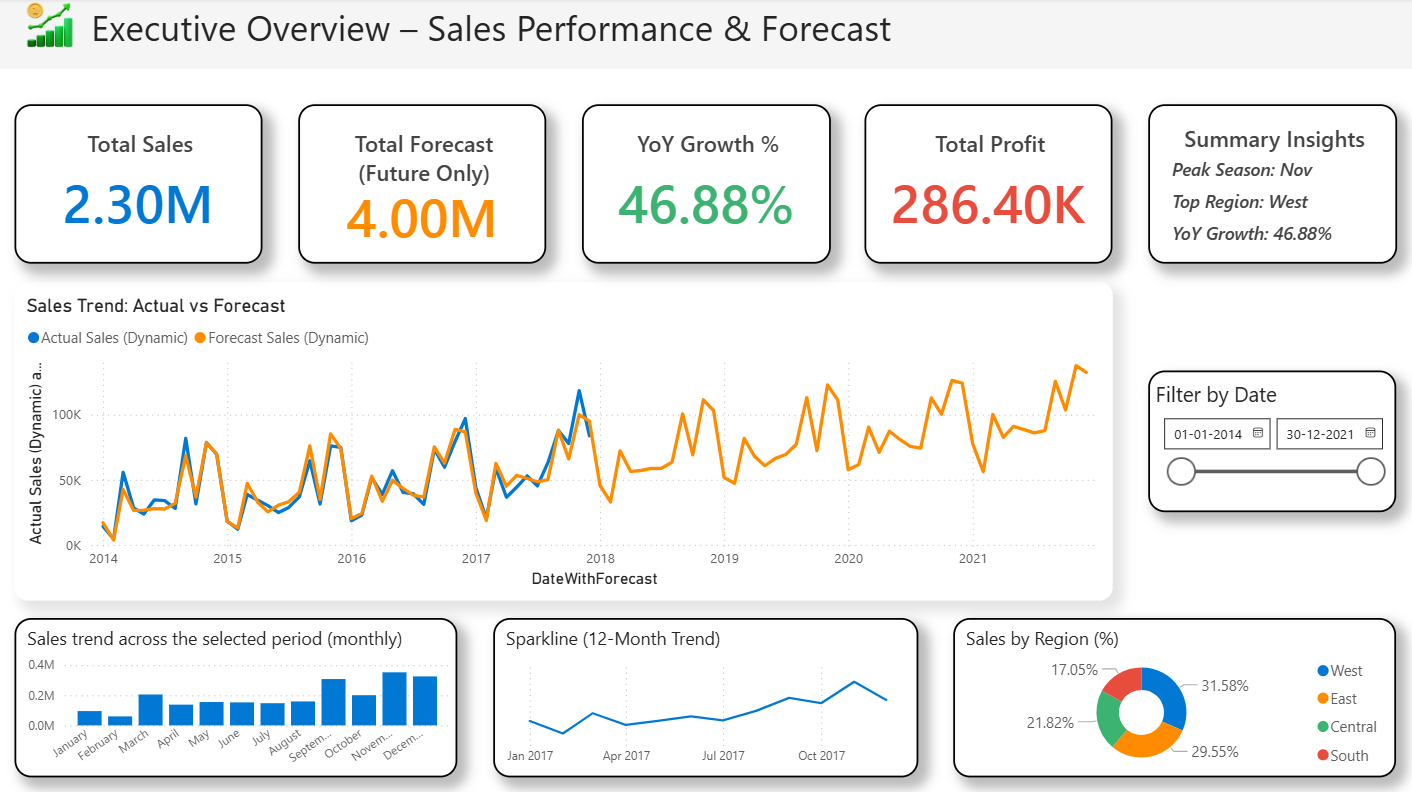

This screenshot's page, from the dashboard's own definition file:
{"tool":"powerbi","page":{"name":"Page 1","canvas":[1280,720],"ordinal":0},"visuals":[{"type":"shape","box":[0,0,1280,64],"z":0},{"type":"lineChart","title":"Sales Trend: Actual vs Forecast","fields":{"Y":["SalesForecastDynamic.Actual Sales (Dynamic)","SalesForecastDynamic.Forecast Sales (Dynamic)"],"Category":["DimDateWithForecast.Date.Variation.Date Hierarchy.Year"]},"box":[16,256,992,288],"z":1000},{"type":"textbox","box":[80,0,752,64],"z":2000},{"type":"card","title":"Total Sales","fields":{"Values":["SalesForecastDynamic.Total Sales (Actual Only)"]},"box":[16,96,224,144],"z":3000},{"type":"card","title":"Total Forecast (Future Only)","fields":{"Values":["SalesForecastDynamic.Total Forecast (Future Only)"]},"box":[272,96,224,144],"z":4000},{"type":"card","title":"YoY Growth %","fields":{"Values":["SalesForecastDynamic.YoY Growth % (Period-aware)"]},"box":[528,96,225,144],"z":5000},{"type":"card","title":"Total Profit","fields":{"Values":["SalesForecastDynamic.Total Profit"]},"box":[784,96,224,144],"z":6000},{"type":"multiRowCard","title":"Summary Insights","fields":{"Values":["SalesForecastDynamic.Peak Season Label","SalesForecastDynamic.Top Region Label","SalesForecastDynamic.Growth Insight Label"]},"box":[1040,96,225,144],"z":7000},{"type":"clusteredColumnChart","title":"Sales trend across the selected period (monthly)","fields":{"Y":["SalesForecastDynamic.Actual Sales (Dynamic)"],"Category":["DimDate.Date.Variation.Date Hierarchy.Month"]},"box":[16,560,400,144],"z":8000},{"type":"lineChart","title":"Sparkline (12-Month Trend)","fields":{"Y":["Sum(SalesForecastDynamic.actual_sales)"],"Category":["DimDate.Date.Variation.Date Hierarchy.Month"]},"box":[448,560,384,144],"z":9000},{"type":"donutChart","title":"Sales by Region (%)","fields":{"Category":["RegionWiseSales.Region"],"Y":["Sum(RegionWiseSales.Sales)"]},"box":[864,560,400,144],"z":10000},{"type":"slicer","title":"Filter by Date","fields":{"Values":["DimDateWithForecast.Date"]},"box":[1040,336,224,128],"z":17000},{"type":"image","box":[16,0,64,48],"z":18000}]}

Visuals, with their boxes in screenshot pixels (x1, y1, x2, y2), scaled from the page's 1280x720 canvas onto the 1412x792 screenshot:
shape: x1=0, y1=0, x2=1411, y2=70
"Sales Trend: Actual vs Forecast" lineChart: x1=18, y1=282, x2=1112, y2=598
textbox: x1=88, y1=0, x2=918, y2=70
"Total Sales" card: x1=18, y1=106, x2=265, y2=264
"Total Forecast (Future Only)" card: x1=300, y1=106, x2=547, y2=264
"YoY Growth %" card: x1=582, y1=106, x2=831, y2=264
"Total Profit" card: x1=865, y1=106, x2=1112, y2=264
"Summary Insights" multiRowCard: x1=1147, y1=106, x2=1395, y2=264
"Sales trend across the selected period (monthly)" clusteredColumnChart: x1=18, y1=616, x2=459, y2=774
"Sparkline (12-Month Trend)" lineChart: x1=494, y1=616, x2=918, y2=774
"Sales by Region (%)" donutChart: x1=953, y1=616, x2=1394, y2=774
"Filter by Date" slicer: x1=1147, y1=370, x2=1394, y2=510
image: x1=18, y1=0, x2=88, y2=53
